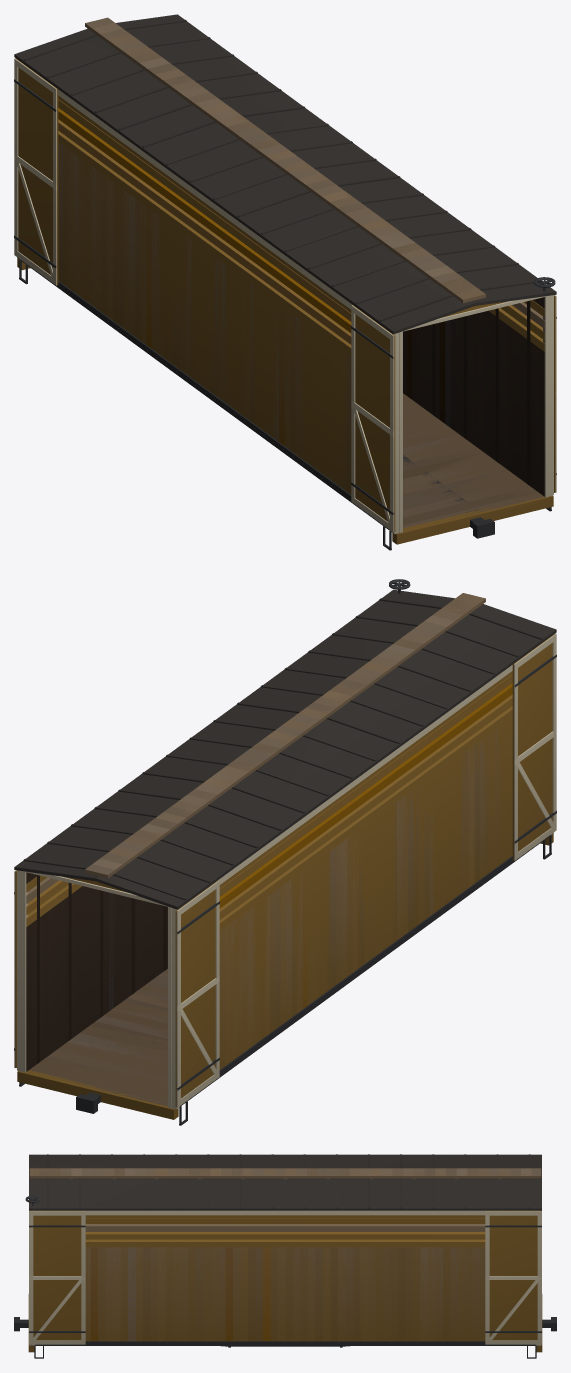
Rendered from thru.glb.
3 views of the same model, one above another, from view 1: azimuth 30°, elevation 25°; view 2: azimuth 150°, elevation 25°; view 3: azimuth 270°, elevation 25° (orthographic). The views are drawn at different scales.
Parts seen in each view (by area): view 1: Body, Far; view 2: Body, Far; view 3: Body, Far.
Part boxes in pixels (<box>): Body: <box>14,14,556,550</box>; Far: <box>58,18,553,517</box>; Body: <box>14,579,556,1125</box>; Far: <box>26,579,512,1105</box>; Body: <box>14,1154,556,1358</box>; Far: <box>26,1168,540,1341</box>.
Size of the model in its own units: 5.99 by 8.27 by 25.36.
